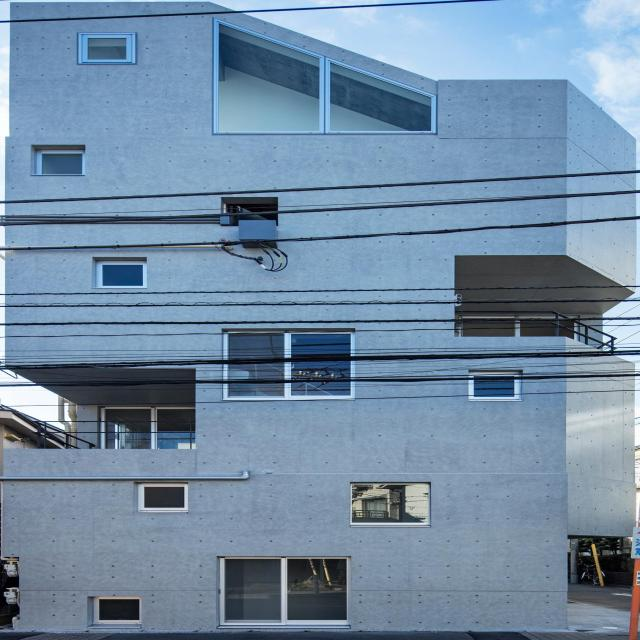Railing: (36, 420, 196, 450)
wall: (2, 0, 634, 635)
windows: (213, 19, 428, 131), (220, 557, 350, 629), (224, 329, 347, 395), (102, 407, 192, 448), (351, 483, 425, 523), (454, 314, 576, 337), (82, 34, 130, 62), (97, 262, 145, 286), (139, 485, 187, 508), (40, 148, 82, 174), (95, 597, 138, 621), (470, 374, 517, 395)
